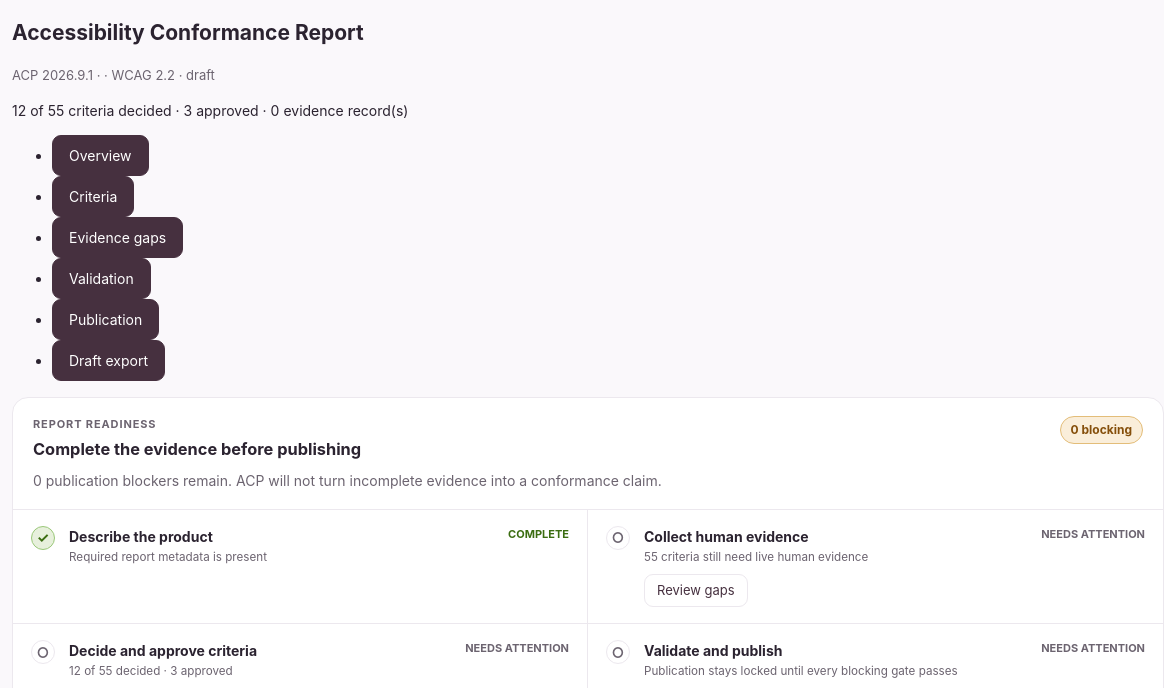
Test: the export accessibility gate › shows the failing checks and disables the download when ACP fails its own document
Step 1. Click the button "Draft export" → point(108, 360), box [52,340,165,381]
(page scrolled)
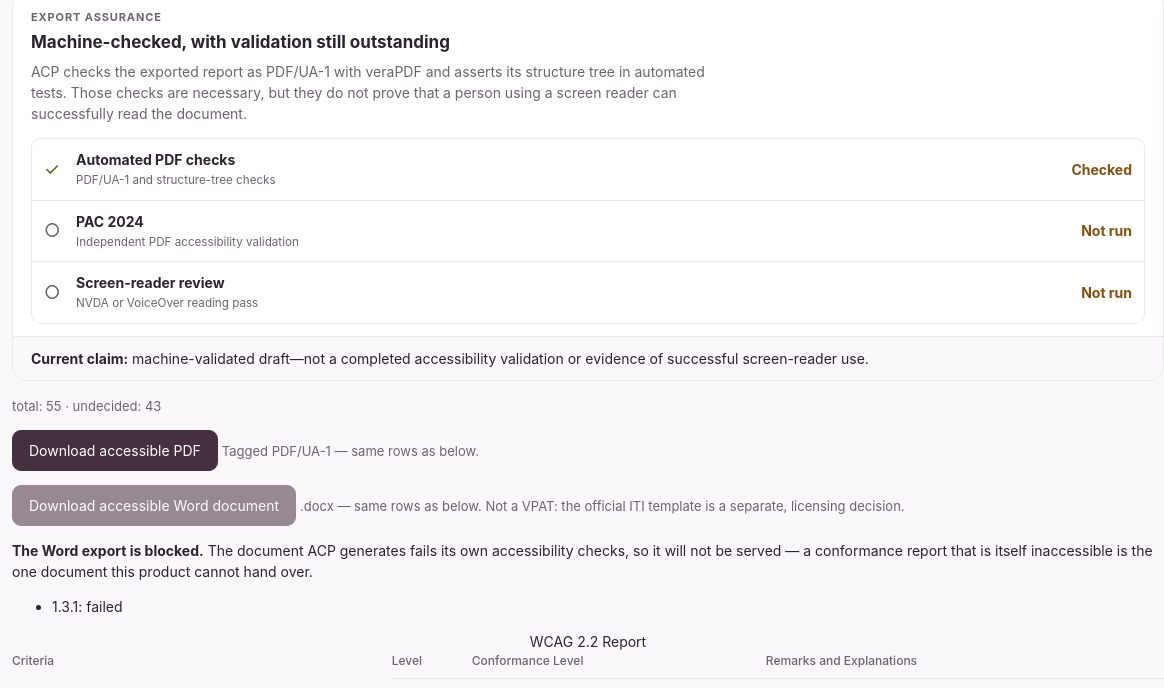
Result: the text "Word export is blocked" is shown at [12,542,204,559]
Result: the text "1.3.1" is shown at [52,598,122,615]
Result: the button "Download accessible Word document" is disabled at [12,485,296,526]
